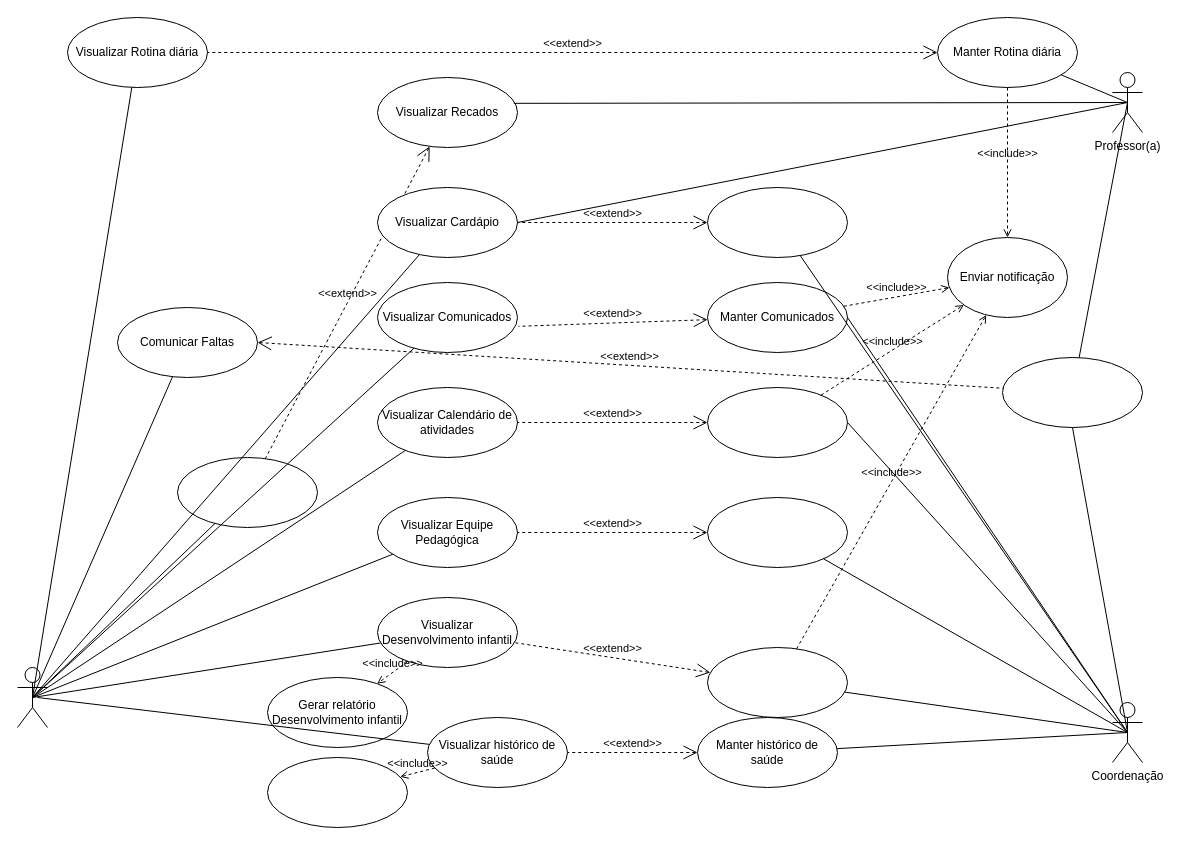
Image size: 1181x845. Some labels were removed from this diagram. Each missing label, with the centre of its shape:
Enviar Recados: point 247,492
Gerar relatório Histórico de saúde: point 337,792
Manter Calendário de atividades: point 777,422
Manter Cardápio: point 777,222
Manter Desenvolvimento infantil: point 777,682
Manter Equipe Pedagógica: point 777,532
Pais: point 32,697
Visualizar comunicado de Faltas: point 1072,392
